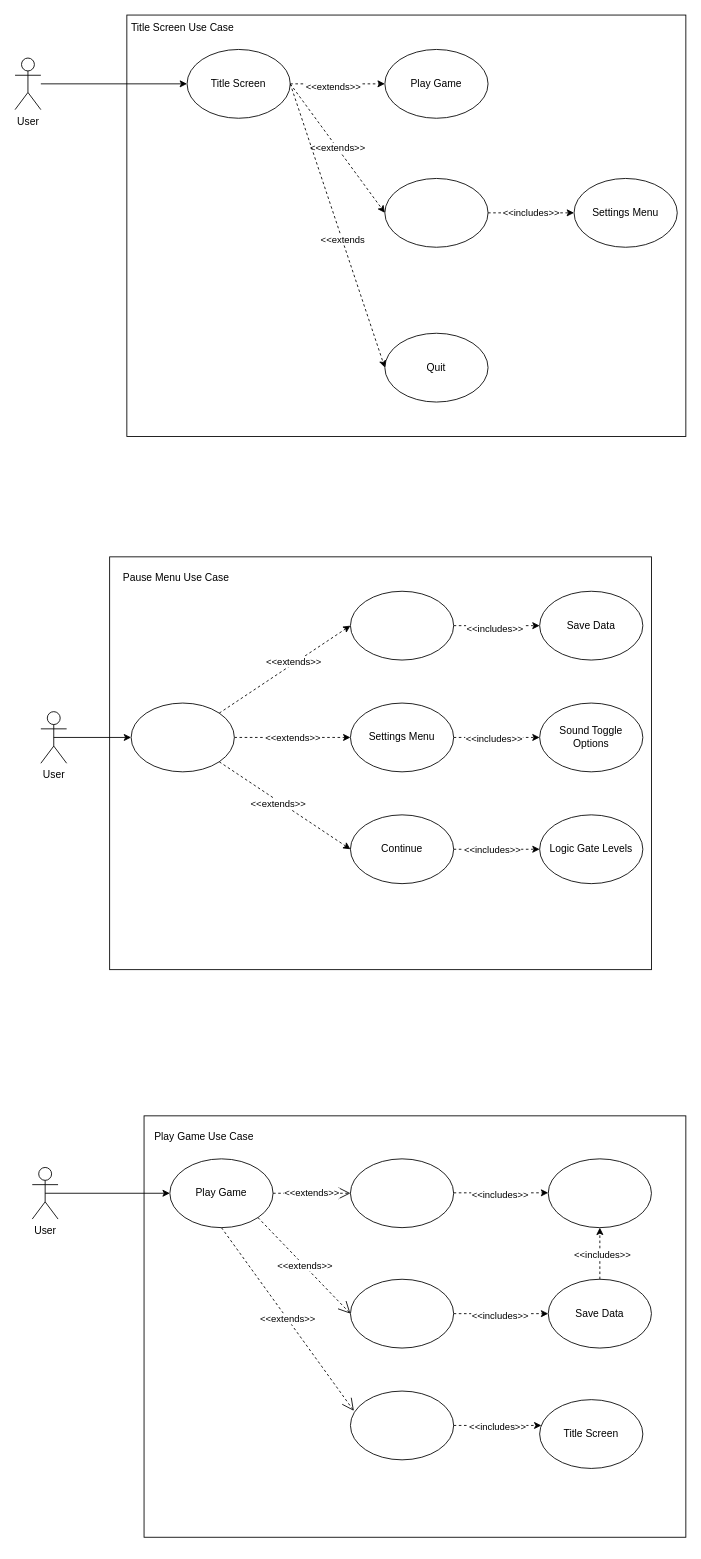
This 701x1559 diagram has some shape labels left out. The shapes that lost their labels are listed below. From the top down, each one's centre as x and y in pixels, then its label:
At (436,212): "Settings".
At (402,625): "Save & Quit".
At (182,737): "Pause Menu".
At (402,1193): "New Game".
At (599,1193): "Logical Gate Levels".
At (402,1313): "Continue Game".
At (402,1425): "Back".
